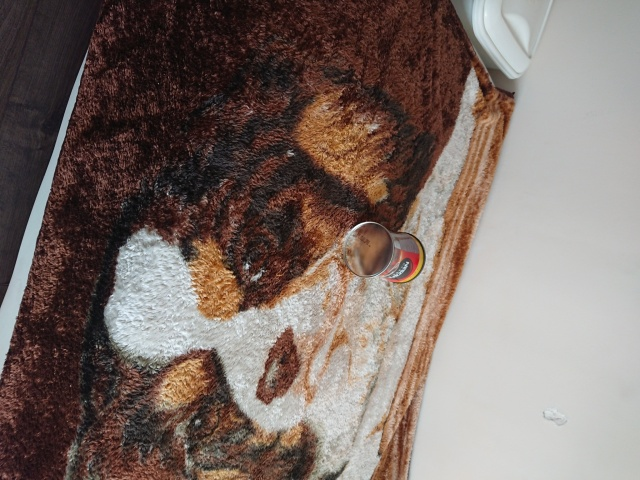Nescafe Classic 225g: (340, 218, 429, 286)
